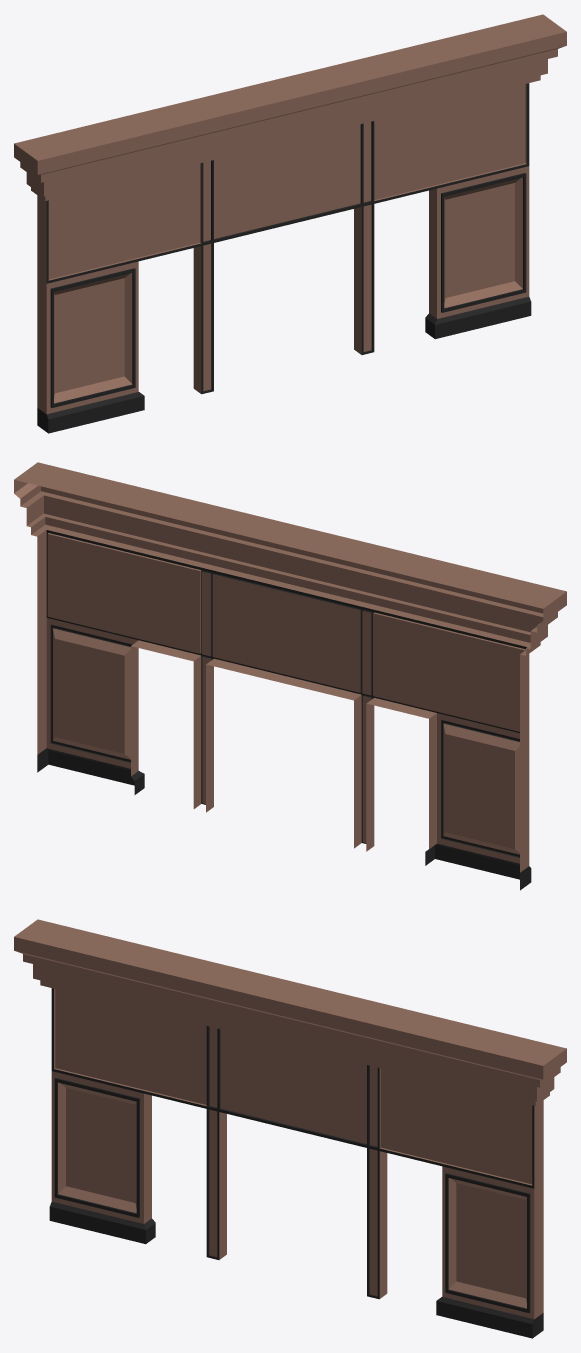
Rendered from shop_entrance.fbx.
The picture shows the model from 3 angles, top to bottom: view 1: azimuth 30°, elevation 25°; view 2: azimuth 150°, elevation 25°; view 3: azimuth 330°, elevation 25°; orthographic projection.
Parts seen in each view (by area): view 1: pCube3; view 2: pCube3; view 3: pCube3.
Part boxes in pixels (x1,y1,x2,y2): pCube3: (14, 14, 566, 433); pCube3: (14, 462, 566, 890); pCube3: (14, 919, 566, 1338).
Bounding box in the file's own units: 12.7 × 6.59 × 0.9887.
